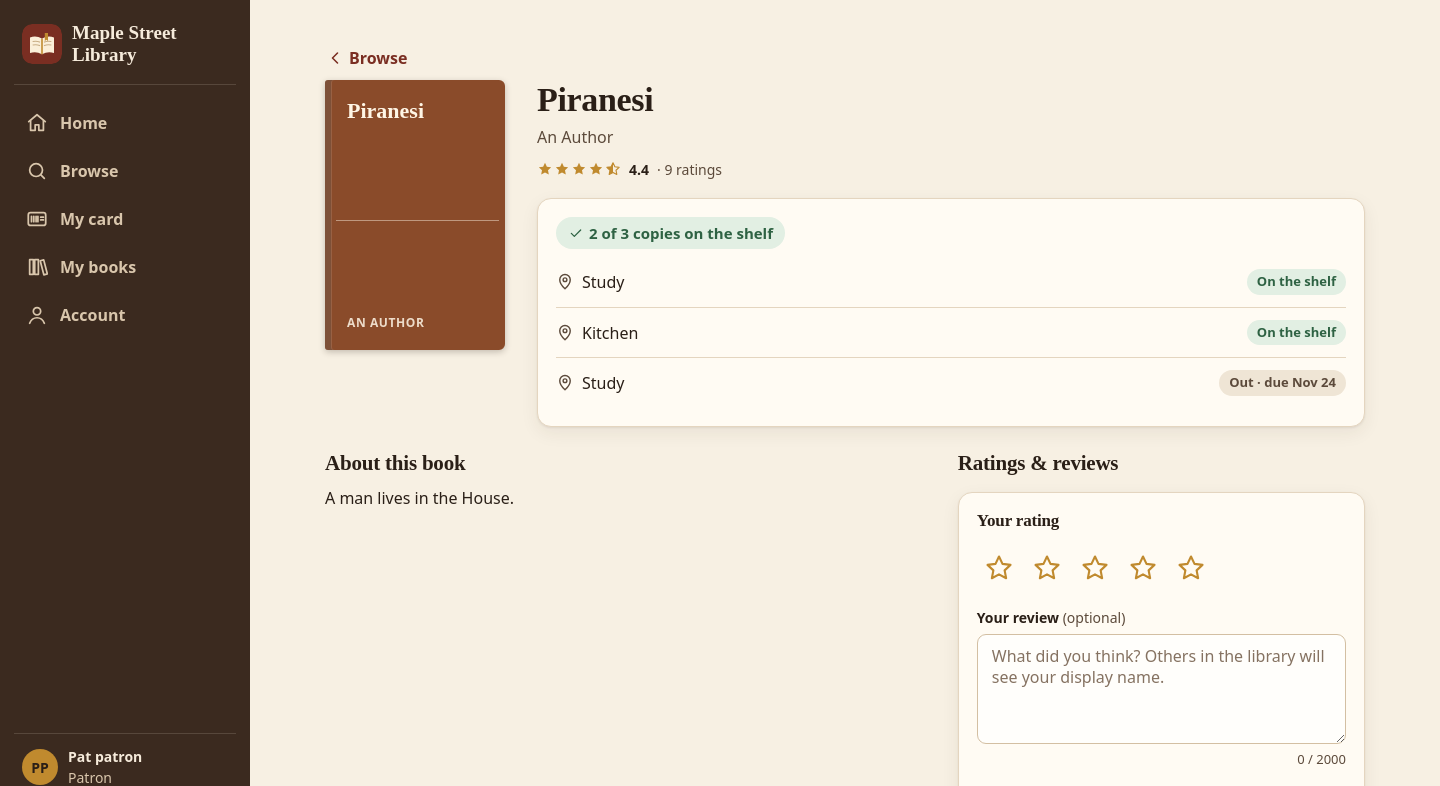
Test case: Book page › CAT-6 Rate: posts the rating and review, then shows what was saved
Click the radio button named "4 stars" at (1143, 569), box [1121,547,1165,591]
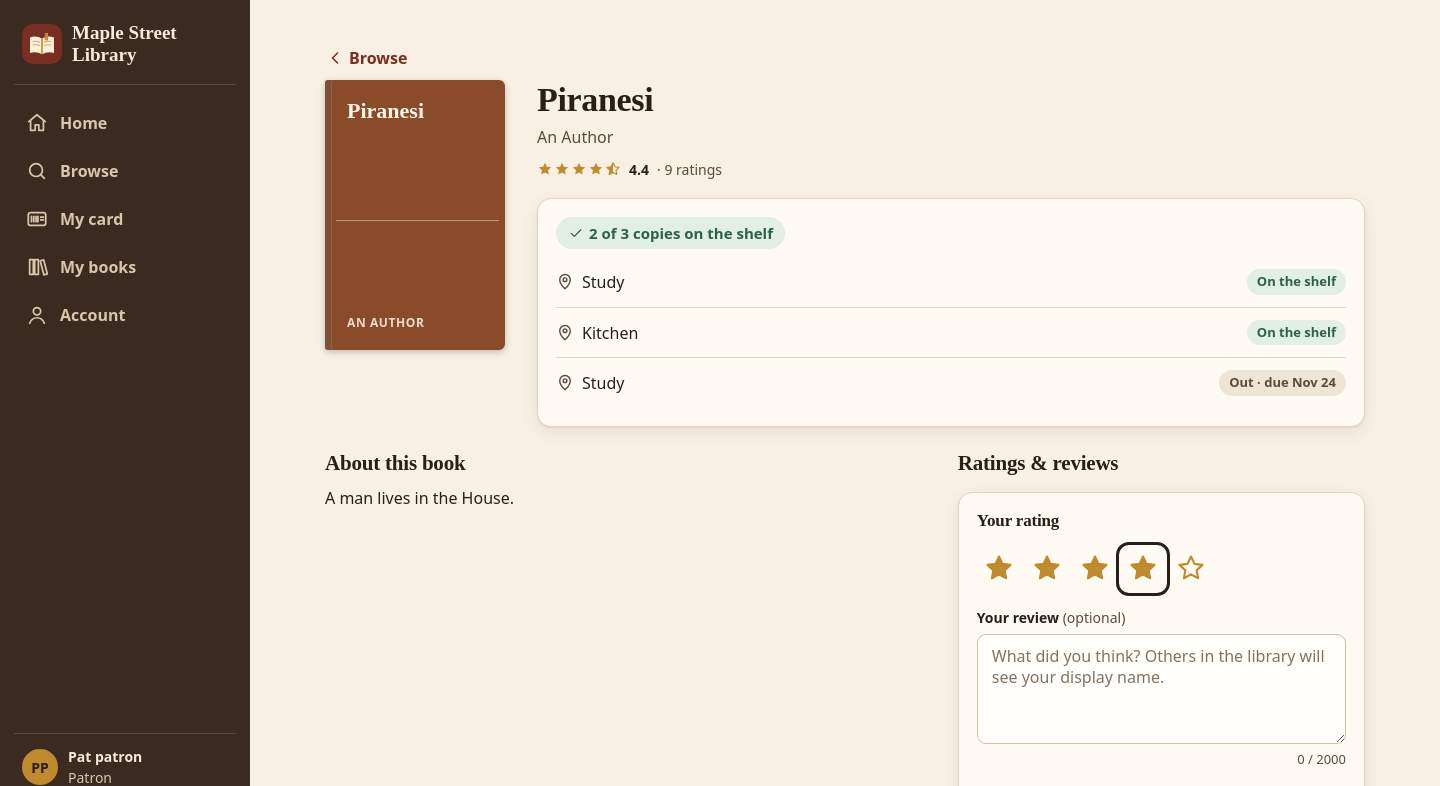
Type "Lovely." into the text box labelled "Your review (optional)" at (1161, 689), box [977,634,1346,744]
(page scrolled)
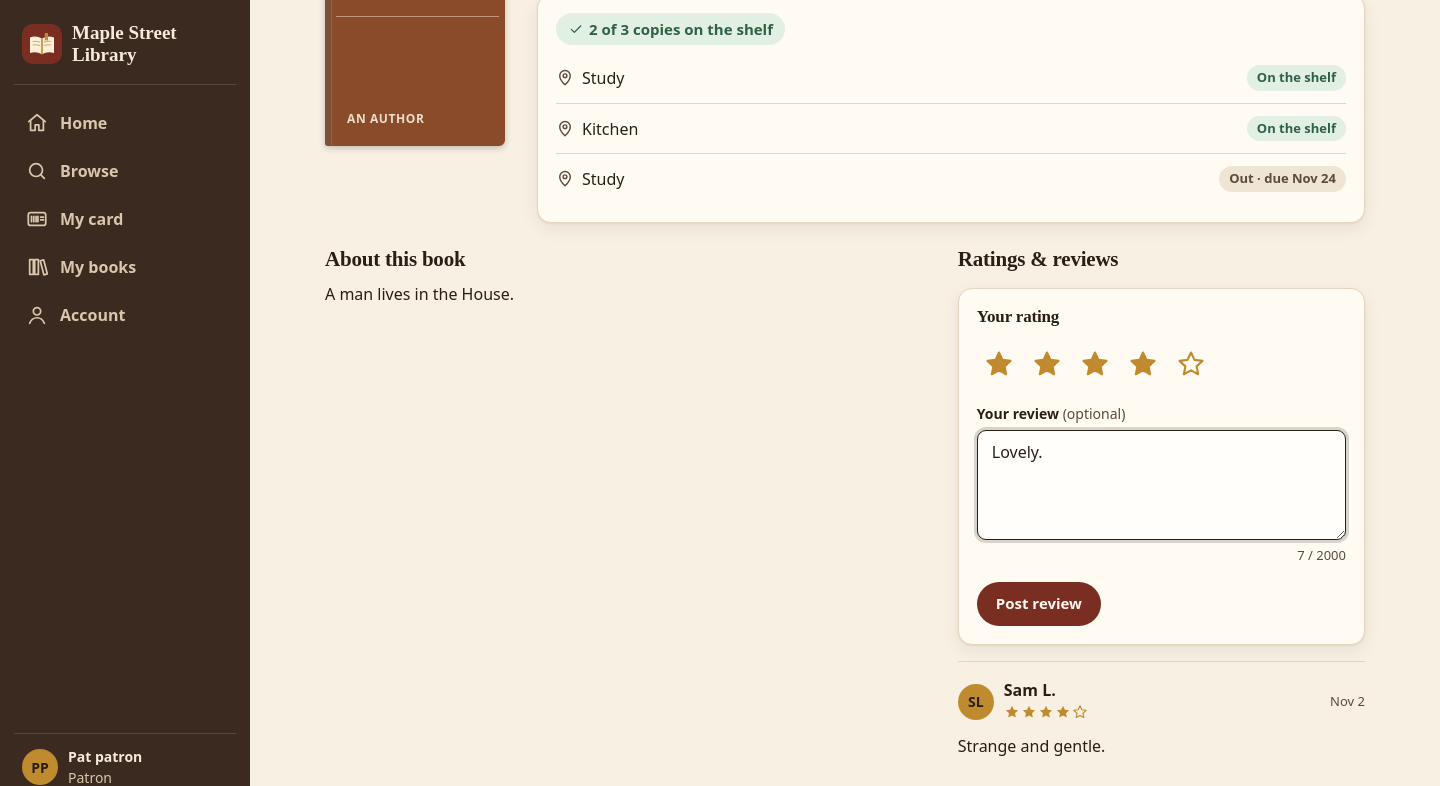
Expected: the text "7 / 2000" is shown, [1297,546,1346,564]
Click the button "Post review" at (1039, 604), box [977,582,1101,626]
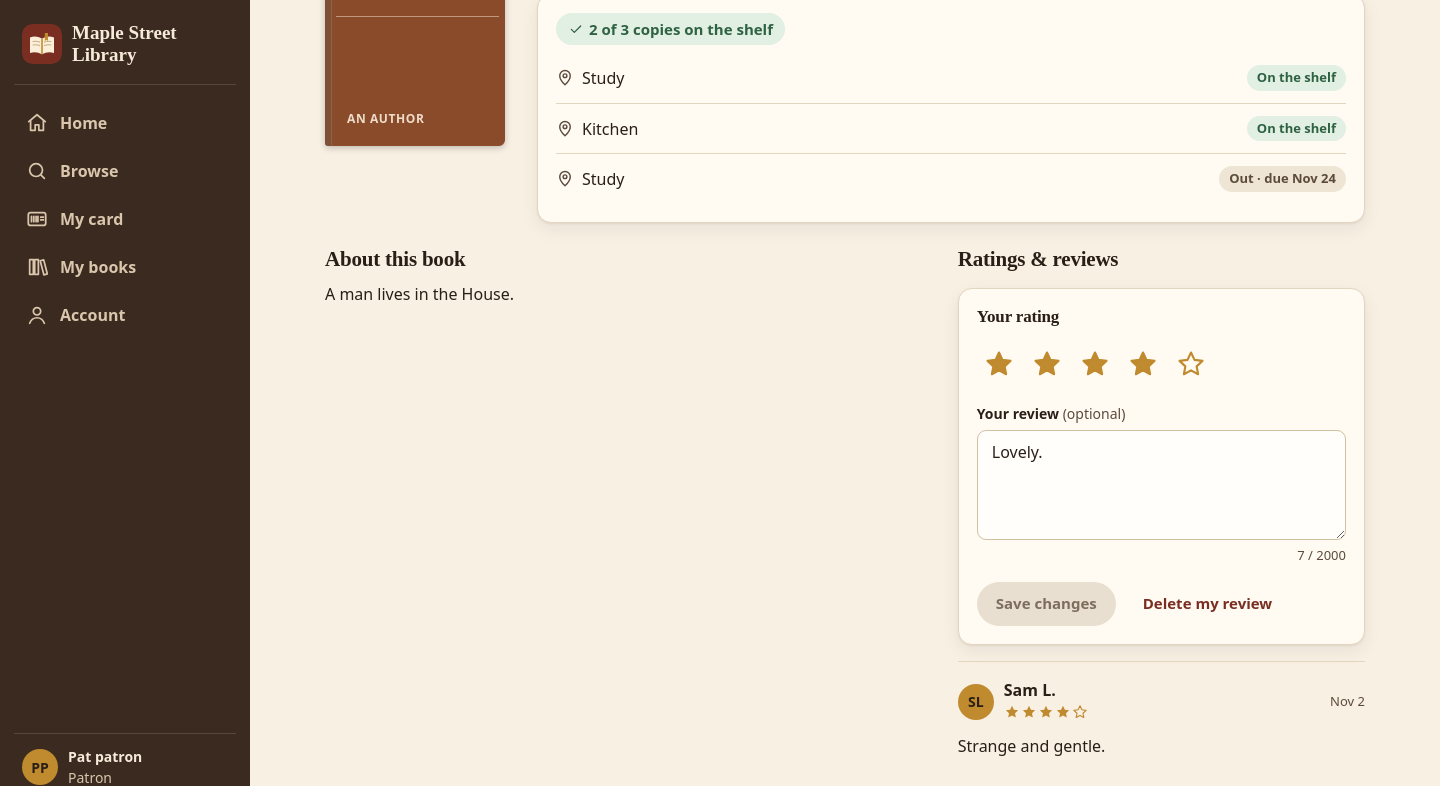
Expected: the button "Delete my review" is shown, [1124,582,1291,626]
